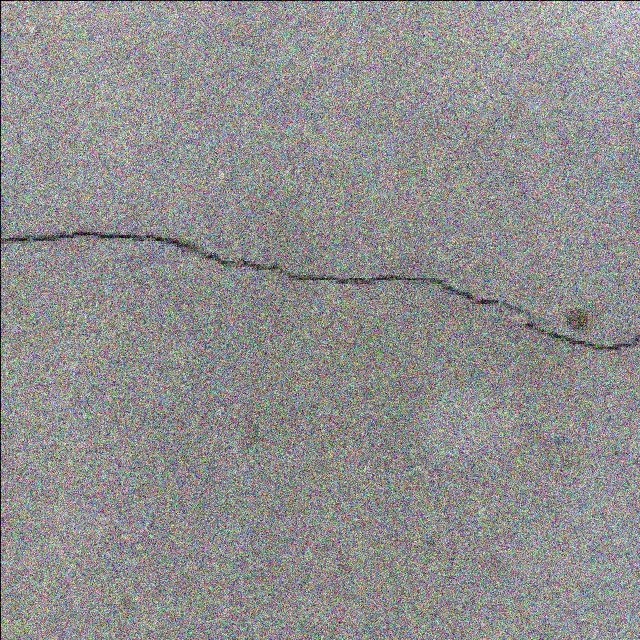SurfaceCrack: (0, 170, 634, 374)
